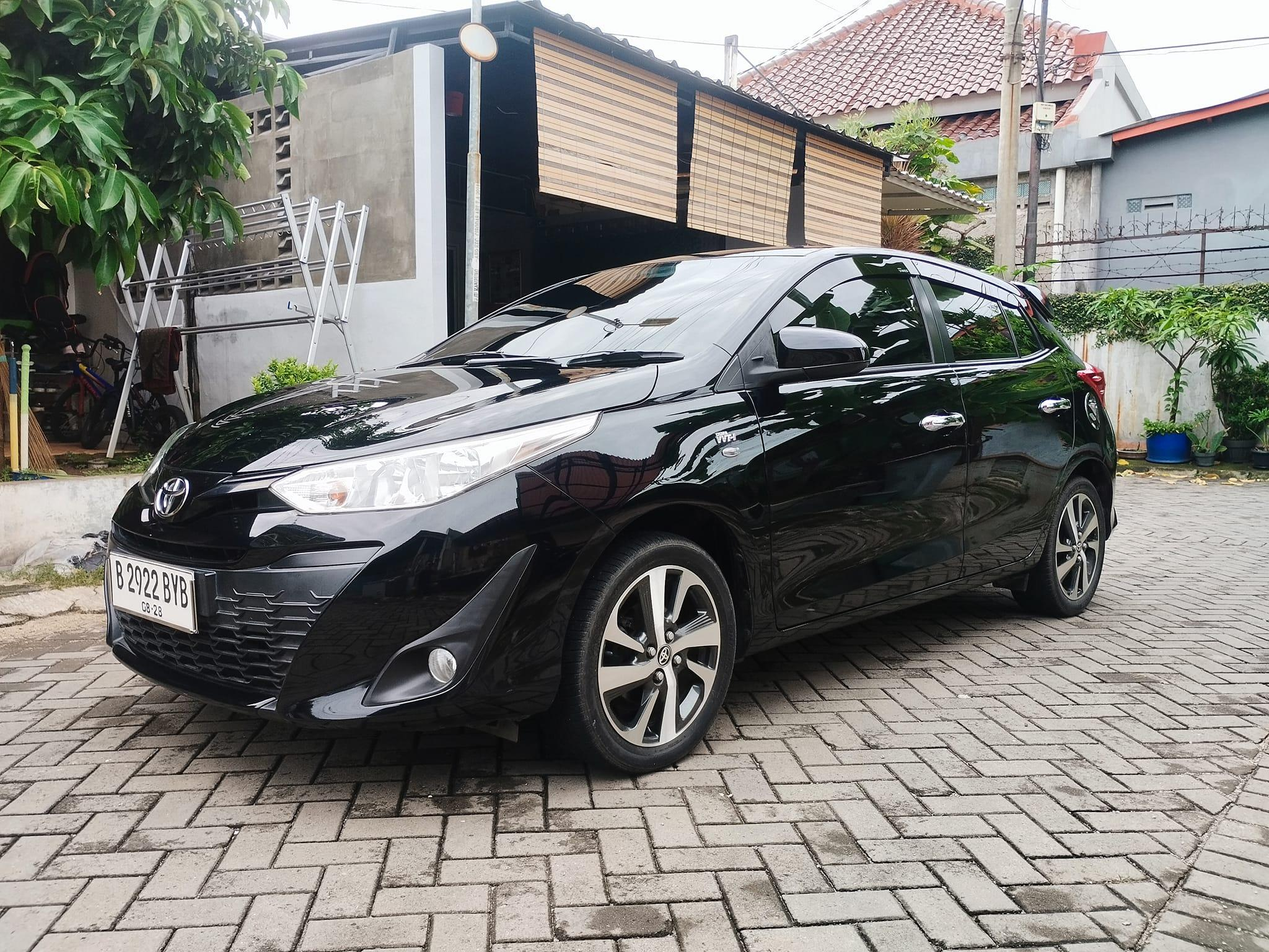plat nomor: (102, 546, 205, 650)
